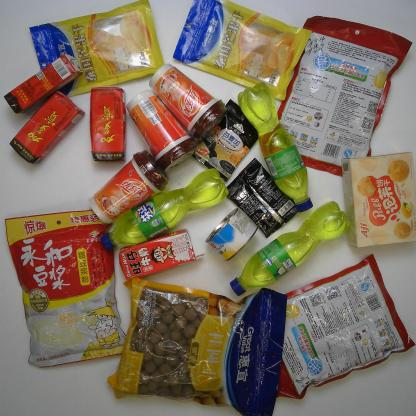Canned Food: (206, 207, 259, 263)
Dessert: (342, 149, 415, 250)
Dried Food: (108, 274, 288, 413)
Dried Fruit: (173, 0, 311, 102), (30, 1, 166, 99)
Drink: (229, 202, 351, 296), (100, 167, 230, 252), (235, 81, 314, 213), (10, 90, 85, 165), (3, 53, 85, 115), (87, 85, 129, 163)
Instant Drink: (274, 16, 412, 177), (275, 252, 416, 400), (5, 209, 130, 368), (89, 149, 171, 226), (148, 63, 228, 138), (191, 98, 259, 185), (225, 157, 298, 238), (126, 88, 195, 173)
Milk: (119, 230, 199, 283)
